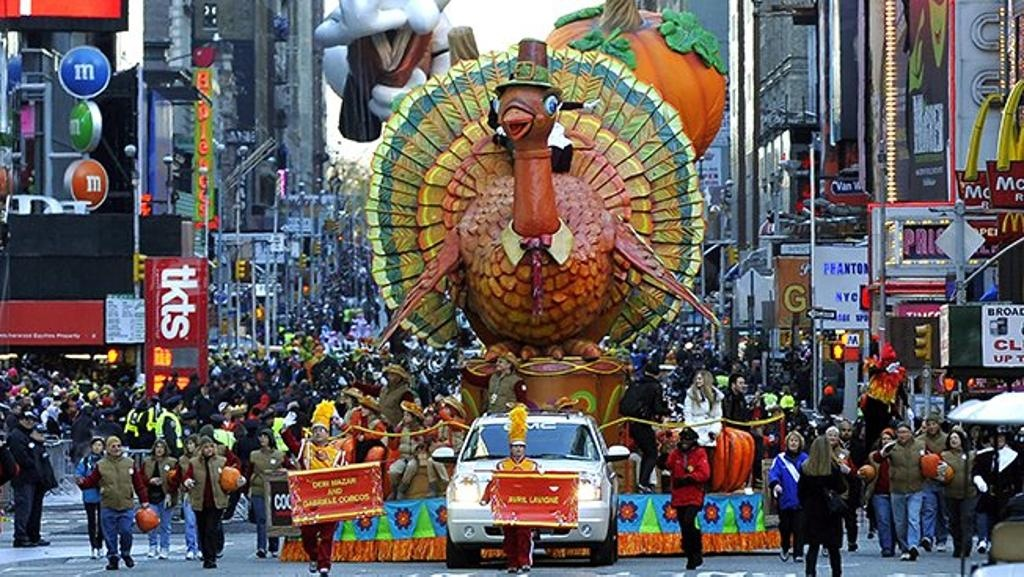human_face: (312, 424, 326, 440), (948, 433, 962, 447), (926, 419, 938, 433), (898, 427, 910, 441), (679, 435, 691, 449), (880, 435, 892, 447), (992, 434, 1004, 446), (826, 432, 838, 444), (511, 443, 523, 455), (497, 358, 509, 370), (109, 442, 121, 454), (841, 422, 851, 436), (734, 376, 744, 390), (387, 372, 399, 383), (330, 413, 340, 426), (787, 436, 797, 448), (441, 404, 451, 416), (92, 440, 102, 452), (154, 443, 164, 455), (203, 442, 213, 454), (416, 447, 426, 459), (402, 410, 412, 421), (22, 415, 32, 426), (694, 374, 704, 384), (187, 440, 195, 452), (200, 380, 208, 392), (920, 422, 928, 432), (259, 434, 267, 444), (361, 406, 369, 416), (265, 415, 273, 425), (972, 428, 980, 438), (184, 414, 192, 424), (344, 395, 352, 403), (223, 412, 231, 418)
